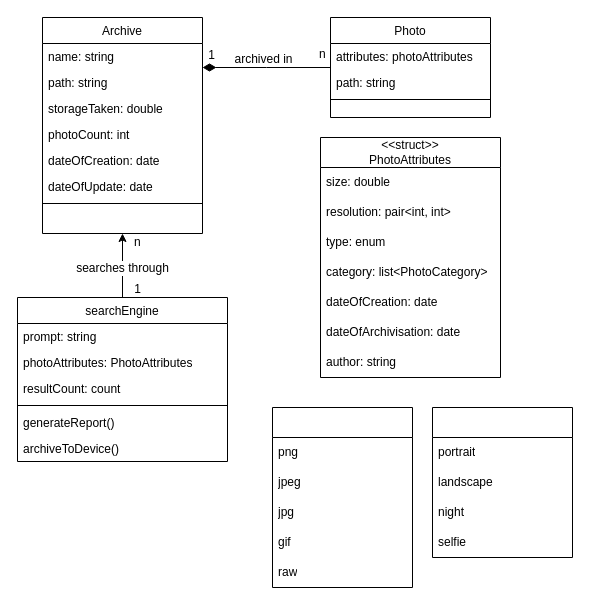
The diagram is 590 pixels wide and 605 high, and some of its shapes have lost their labels. Each missing label, with the box of its shape:
<<enumeration>> PhotoCategory: (432, 406, 572, 558)
<<enumeration>> PhotoType: (272, 406, 412, 588)
